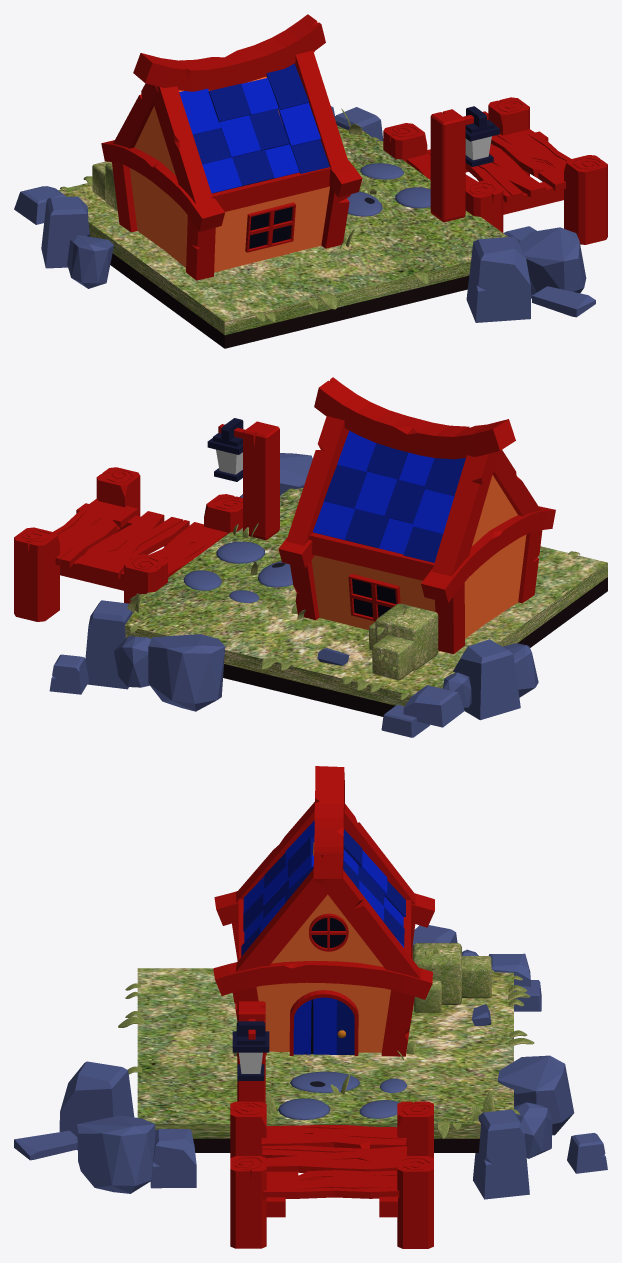
The model's file is house.obj.
3 renders of one model, top to bottom at view 1: azimuth 30°, elevation 25°; view 2: azimuth 150°, elevation 25°; view 3: azimuth 270°, elevation 25°, orthographic. The views are drawn at different scales.
Visible parts, largest first — view 1: SUELO_Cubo.044, PAREDES_Cubo, Cubo.004, Cubo.103_Cubo.118, Cubo.046_Cubo.056, Cubo.045_Cubo.055, Cubo.102_Cubo.117, Cubo.007, Cubo.026_Cubo.028, Cubo.056_Cubo.071, Cubo.038_Cubo.047, Cubo.008 (+34 smaller); view 2: SUELO_Cubo.044, PAREDES_Cubo, Cubo.004, Cubo.055_Cubo.070, Cubo.046_Cubo.056, Cubo_Cubo.045, Cubo.006, Cubo.056_Cubo.071, Cubo.041_Cubo.051, Cubo.026_Cubo.028, Cubo.005, Cubo.052_Cubo.063 (+38 smaller); view 3: SUELO_Cubo.044, PAREDES_Cubo, Cubo.102_Cubo.117, Cubo.001, Cubo.052_Cubo.063, puerta_Cilindro, Cubo.103_Cubo.118, Cubo.038_Cubo.047, Cubo.055_Cubo.070, Cubo.041_Cubo.051, Cubo.005, Cubo.004 (+24 smaller).
Part boxes in pixels (<box>): SUELO_Cubo.044: <box>58,125,507,348</box>; PAREDES_Cubo: <box>130,76,329,272</box>; Cubo.004: <box>133,14,325,91</box>; Cubo.103_Cubo.118: <box>466,237,530,322</box>; Cubo.046_Cubo.056: <box>430,109,465,222</box>; Cubo.045_Cubo.055: <box>564,155,607,244</box>; Cubo.102_Cubo.117: <box>519,227,586,298</box>; Cubo.007: <box>153,86,213,204</box>; Cubo.026_Cubo.028: <box>101,140,224,231</box>; Cubo.056_Cubo.071: <box>41,196,89,268</box>; Cubo.038_Cubo.047: <box>491,128,570,190</box>; Cubo.008: <box>294,50,349,169</box>; SUELO_Cubo.044: <box>125,488,607,716</box>; PAREDES_Cubo: <box>311,475,526,638</box>; Cubo.004: <box>314,377,515,459</box>; Cubo.055_Cubo.070: <box>148,634,225,711</box>; Cubo.046_Cubo.056: <box>243,421,279,540</box>; Cubo_Cubo.045: <box>14,527,59,621</box>; Cubo.006: <box>432,451,498,576</box>; Cubo.056_Cubo.071: <box>453,639,520,720</box>; Cubo.041_Cubo.051: <box>77,511,189,579</box>; Cubo.026_Cubo.028: <box>421,506,555,603</box>; Cubo.005: <box>286,416,349,545</box>; Cubo.052_Cubo.063: <box>85,600,132,689</box>; SUELO_Cubo.044: <box>137,968,513,1152</box>; PAREDES_Cubo: <box>256,842,390,1052</box>; Cubo.102_Cubo.117: <box>77,1115,155,1193</box>; Cubo.001: <box>213,961,432,999</box>; Cubo.052_Cubo.063: <box>473,1109,529,1199</box>; puerta_Cilindro: <box>289,990,358,1055</box>; Cubo.103_Cubo.118: <box>59,1061,134,1149</box>; Cubo.038_Cubo.047: <box>262,1170,399,1198</box>; Cubo.055_Cubo.070: <box>497,1055,574,1135</box>; Cubo.041_Cubo.051: <box>262,1145,406,1172</box>; Cubo.005: <box>313,870,420,978</box>; Cubo.004: <box>313,766,344,878</box>.
Size of what is drawn, in the model's own units: 5.29 by 2.64 by 5.27.
Materials: 12 (1 with a texture image).
